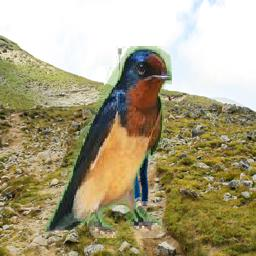Swallow: (44, 46, 173, 238)
